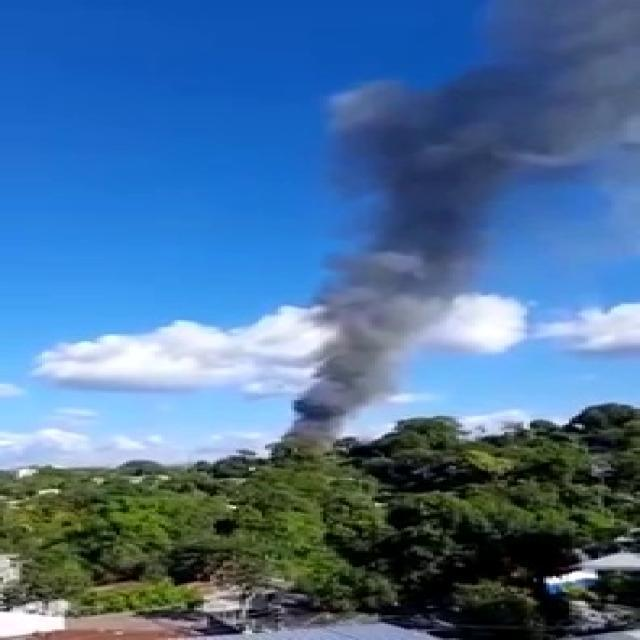Smoke: (280, 96, 560, 425)
